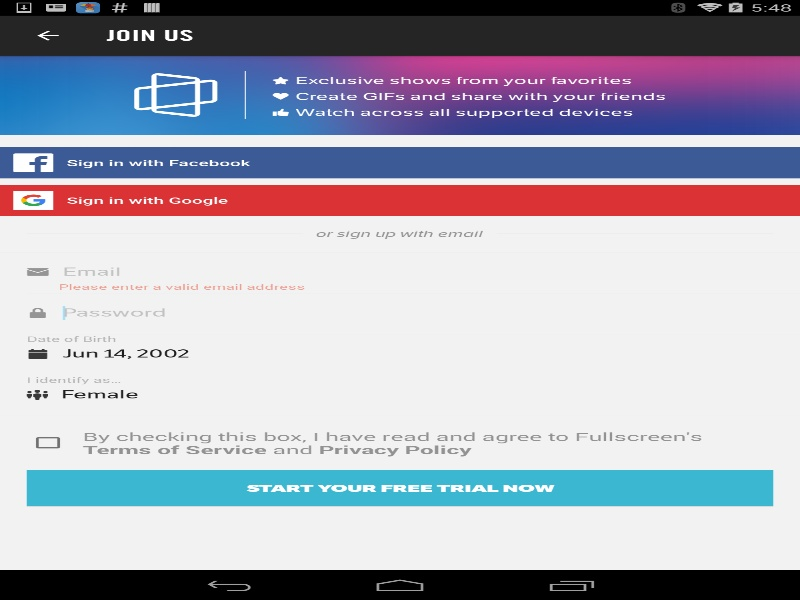Button: (10, 15, 85, 55)
Input: (26, 252, 800, 292), (26, 293, 800, 333), (26, 334, 800, 374), (26, 375, 800, 415)
